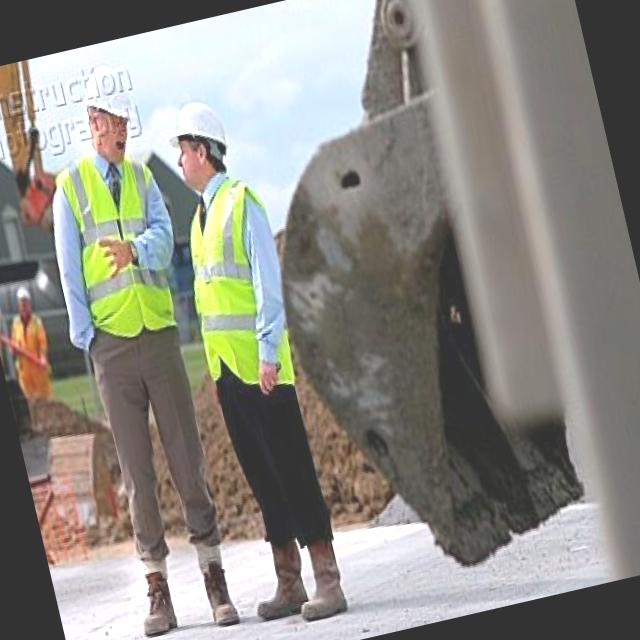helmet: (158, 98, 236, 170)
vest: (52, 142, 190, 352), (172, 182, 299, 396)
